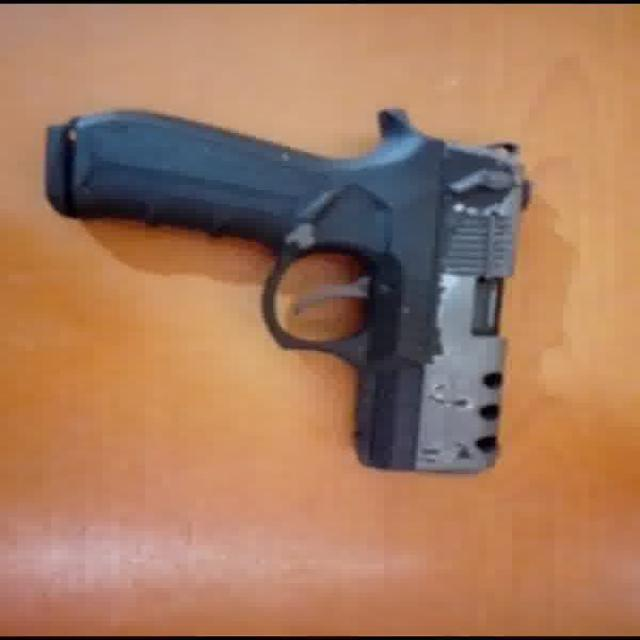weapon: (44, 106, 532, 473)
